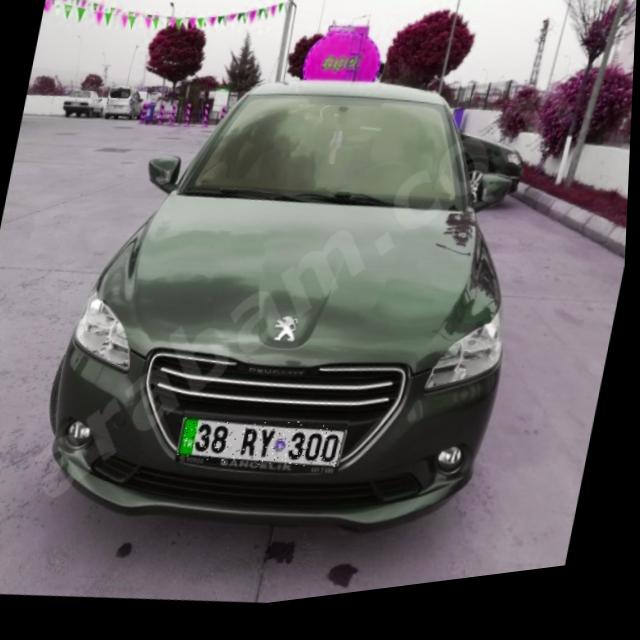license_plate: (180, 406, 353, 493)
